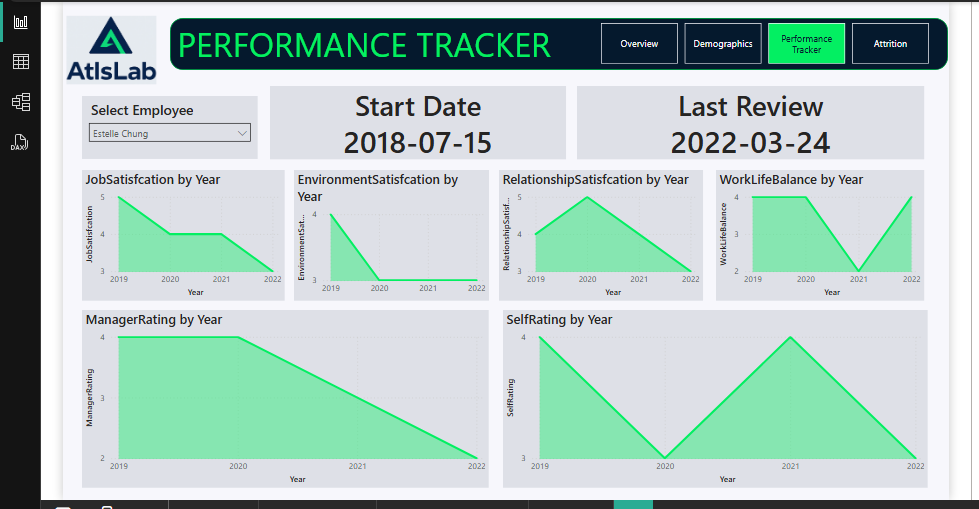

The dashboard page shown, as its layout file describes it:
{"tool":"powerbi","page":{"name":"Performance Tracker","canvas":[1280,720],"ordinal":2},"visuals":[{"type":"shape","box":[154.7,23.1,1124.8,75.2],"z":0},{"type":"slicer","title":"Select Employee","fields":{"Values":["Employee.FullName"]},"box":[27.5,135.9,254.5,91.1],"z":1000},{"type":"card","title":"Start Date","fields":{"Values":["Min(Employee.HireDate)"]},"box":[299.3,121.4,428,105.5],"z":2000},{"type":"card","title":"Last Review","fields":{"Values":["_measures.LastReviewDate"]},"box":[743.1,121.4,501.7,105.5],"z":3000},{"type":"areaChart","fields":{"Y":["_measures.JobSatisfcation"],"Category":["DimDate.Date.Variation.Date Hierarchy.Year"]},"box":[27.5,242.9,293.5,189.4],"z":4000},{"type":"areaChart","fields":{"Category":["DimDate.Date.Variation.Date Hierarchy.Year"],"Y":["_measures.EnvironmentSatisfcation"]},"box":[334,242.9,281.9,189.4],"z":5000},{"type":"areaChart","fields":{"Category":["DimDate.Date.Variation.Date Hierarchy.Year"],"Y":["_measures.RelationshipSatisfcation"]},"box":[630.4,242.9,294.9,189.4],"z":6000},{"type":"stackedAreaChart","fields":{"Category":["DimDate.Date.Variation.Date Hierarchy.Year"],"Y":["_measures.WorkLifeBalance"]},"box":[944.1,242.9,300.7,189.4],"z":7000},{"type":"areaChart","fields":{"Category":["DimDate.Date.Variation.Date Hierarchy.Year"],"Y":["_measures.ManagerRating"]},"box":[27.5,445.3,588.4,257.3],"z":8000},{"type":"areaChart","fields":{"Category":["DimDate.Date.Variation.Date Hierarchy.Year"],"Y":["_measures.SelfRating"]},"box":[636.1,445.3,614.5,257.3],"z":9000},{"type":"image","box":[0,0,140.2,138.8],"z":10000},{"type":"textbox","box":[160.5,23.1,595.7,76.6],"z":11000},{"type":"pageNavigator","box":[777.8,30.4,477.1,59.3],"z":12000}]}

Visuals, with their boxes on the page's 1280x720 design canvas (x1, y1, x2, y2). These are canvas units, not pixel positions in the 979x509 screenshot, which may show the page scaled, cropped or inside an application window:
shape: 155:23:1280:98
"Select Employee" slicer: 28:136:282:227
"Start Date" card: 299:121:727:227
"Last Review" card: 743:121:1245:227
areaChart - _measures.JobSatisfcation x DimDate.Date.Variation.Date Hierarchy.Year: 28:243:321:432
areaChart - DimDate.Date.Variation.Date Hierarchy.Year x _measures.EnvironmentSatisfcation: 334:243:616:432
areaChart - DimDate.Date.Variation.Date Hierarchy.Year x _measures.RelationshipSatisfcation: 630:243:925:432
stackedAreaChart - DimDate.Date.Variation.Date Hierarchy.Year x _measures.WorkLifeBalance: 944:243:1245:432
areaChart - DimDate.Date.Variation.Date Hierarchy.Year x _measures.ManagerRating: 28:445:616:703
areaChart - DimDate.Date.Variation.Date Hierarchy.Year x _measures.SelfRating: 636:445:1251:703
image: 0:0:140:139
textbox: 160:23:756:100
pageNavigator: 778:30:1255:90
